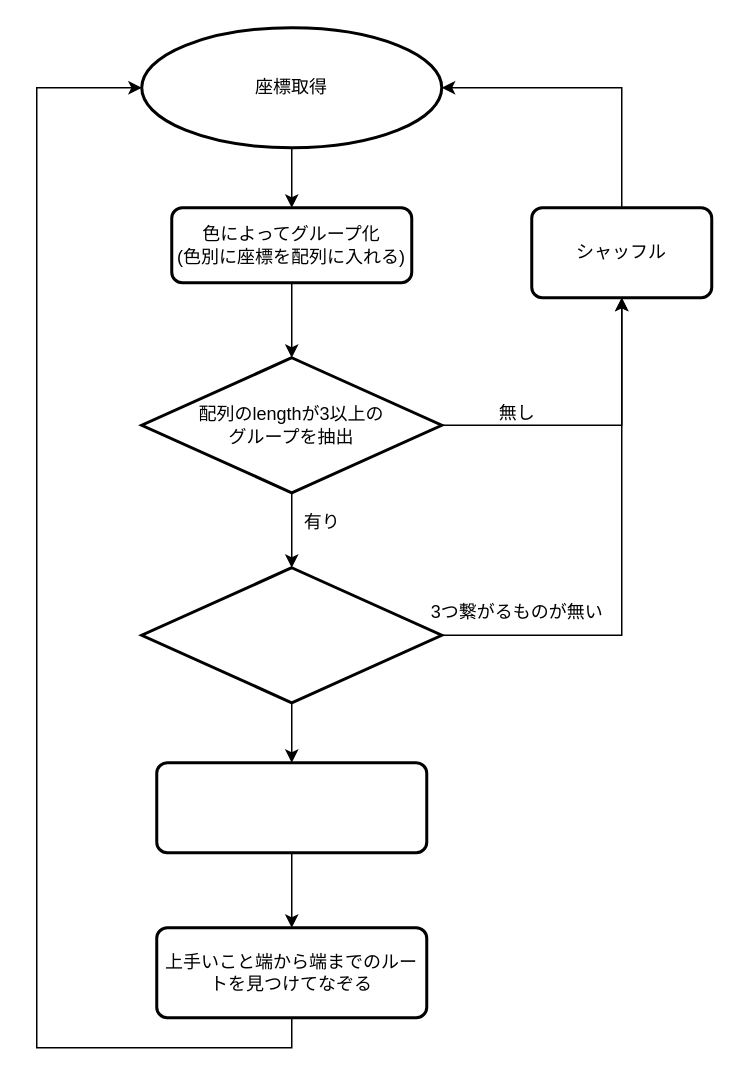
The diagram is 740 pixels wide and 1086 high, and some of its shapes have lost their labels. Here are the shapes that lost their labels. From the top down, the box of each, then its label:
(140, 566, 442, 704): 座標間の距離を調べる
(154, 760, 428, 854): 近い座標を配列に入れる
